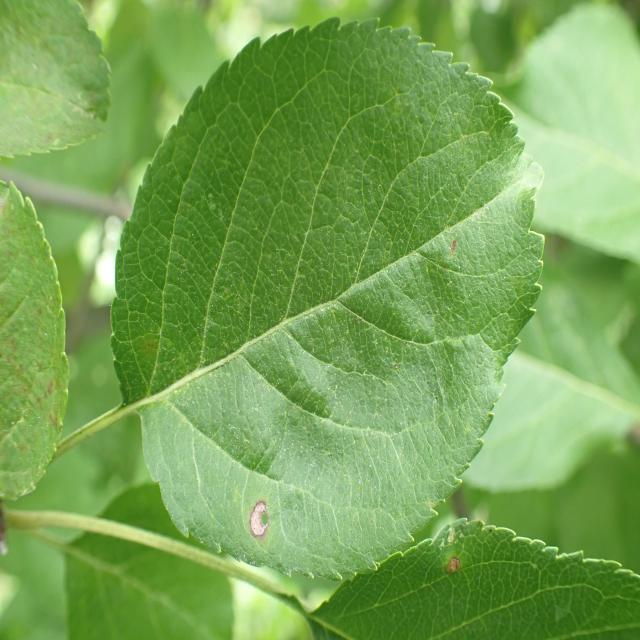Black Rot: (241, 480, 275, 568)
